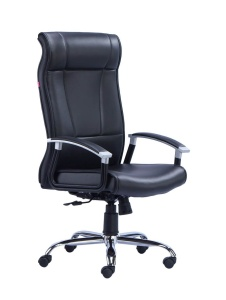chair: (37, 30, 190, 279)
